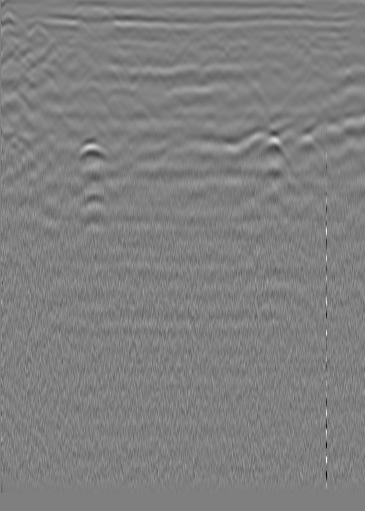가스: (73, 138, 111, 166)
상수: (319, 24, 339, 44)
오수: (32, 17, 52, 37)
우수: (178, 29, 198, 49)
